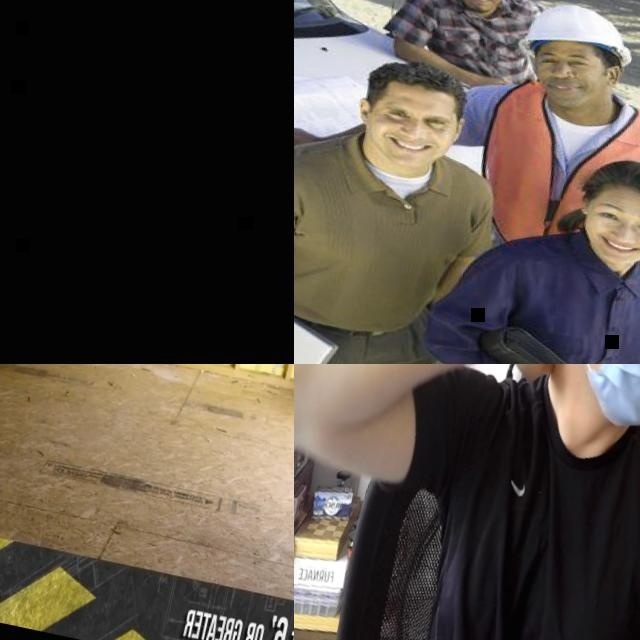Hardhat: (514, 0, 639, 77)
Mask: (550, 364, 640, 437)
NO-Hardhat: (366, 56, 482, 109), (586, 152, 640, 212)
NO-Mask: (537, 68, 617, 120), (368, 123, 448, 173), (582, 221, 640, 273), (452, 0, 507, 16)
NO-Safety Vest: (420, 364, 640, 640), (294, 137, 495, 354), (461, 230, 640, 364), (413, 0, 543, 94)
Person: (294, 364, 640, 640), (294, 32, 532, 364), (430, 0, 640, 293), (394, 124, 640, 364), (377, 0, 561, 97)
Safety Vest: (468, 77, 640, 268)
vehicle: (294, 0, 554, 364)
